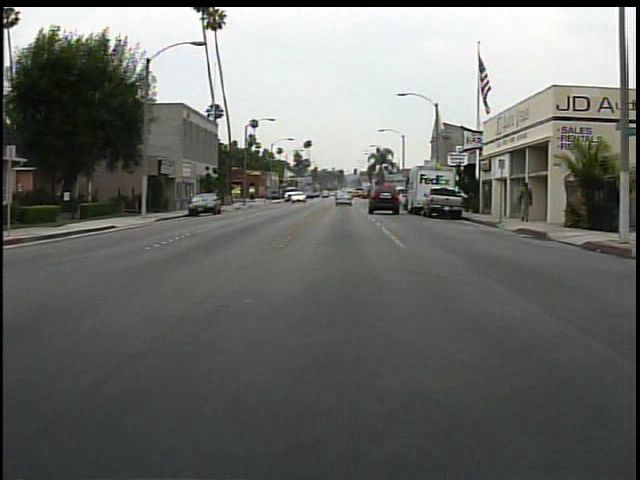person: (516, 182, 537, 224)
